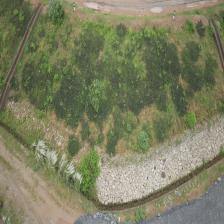rock toe: (96, 116, 224, 204)
slope drain: (0, 2, 42, 112), (212, 16, 224, 71)
